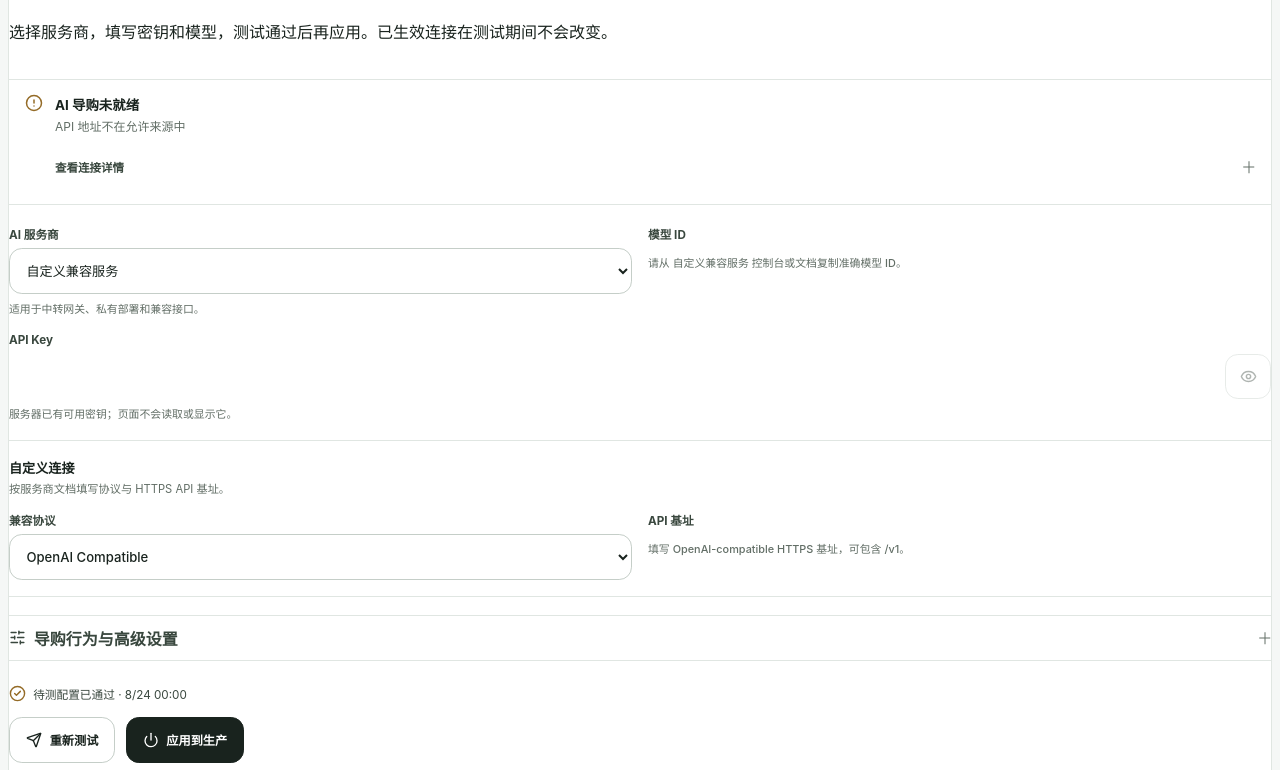
Test: PlatformAiConfigPanel provider-first configuration › applies only a clean attested draft
(page scrolled)
What coordinates should you click on to do the following:
click the button "应用到生产"
I would click on:
 (185, 740)
Its box is [126,717,244,763].
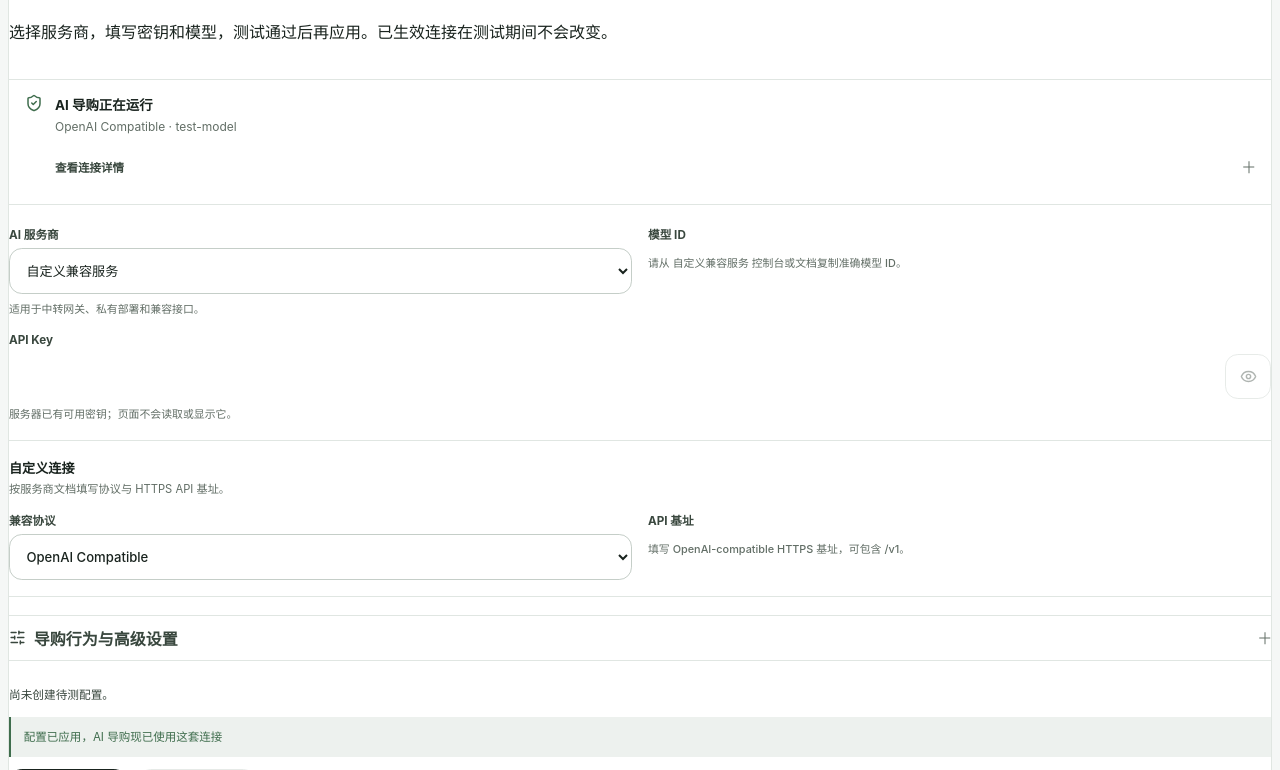
Result: the text "配置已应用，AI 导购现已使用这套连接" is shown at [9,717,1271,757]
